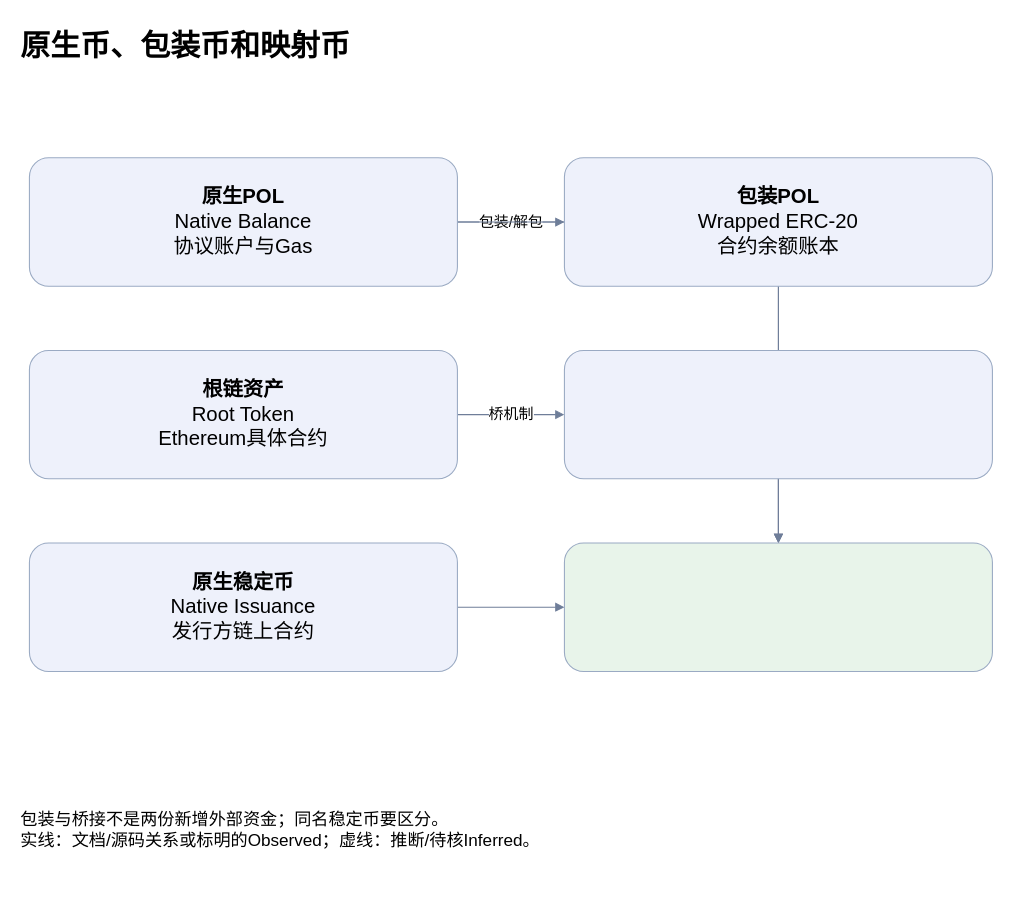
This 1021x908 diagram has some shape labels left out. Here are the shapes that lost their labels. From the top down, the centre of each, then its label:
At point (777, 414): "桥接表示 Child Representation 映射规则与安全假设".
At point (777, 606): "资产身份 Chain + Address + Decimals 符号只便于阅读".
